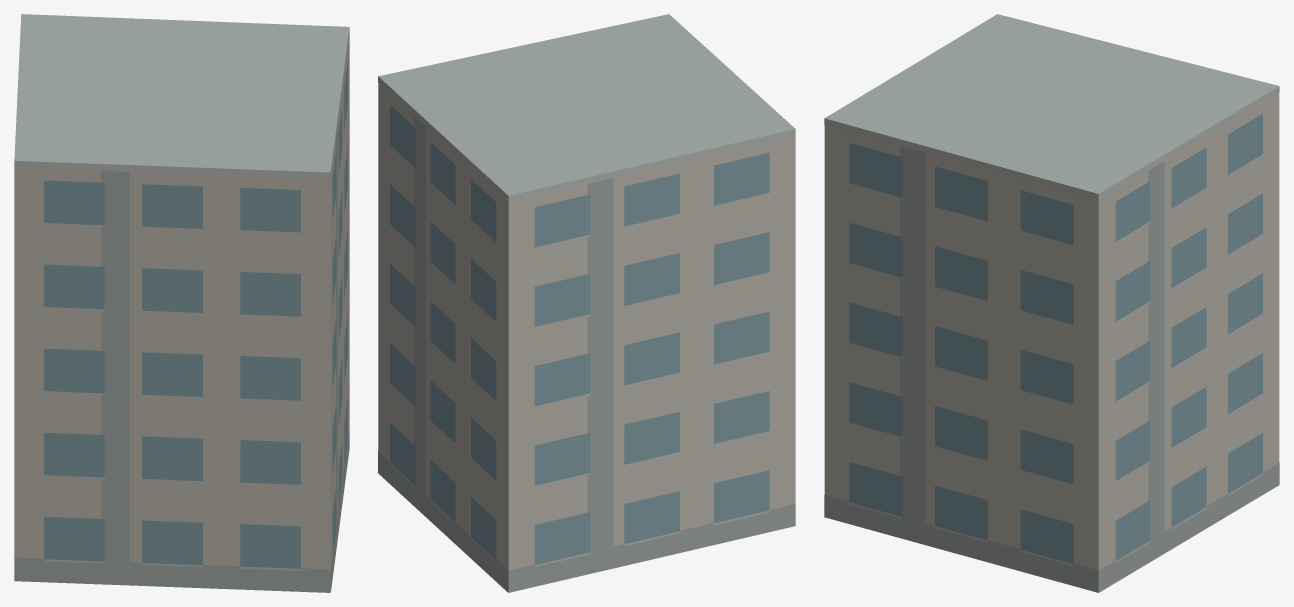
Rendered from survey-upis-32513641.glb.
3 renders of one model, left to right at view 1: azimuth 30°, elevation 25°; view 2: azimuth 150°, elevation 25°; view 3: azimuth 270°, elevation 25°, orthographic. The views are drawn at different scales.
Parts seen in each view (by area): view 1: survey-upis-32513641.tmp; view 2: survey-upis-32513641.tmp; view 3: survey-upis-32513641.tmp.
Part boxes in pixels (x1,y1,x2,y2): survey-upis-32513641.tmp: [14, 14, 349, 592]; survey-upis-32513641.tmp: [378, 14, 795, 592]; survey-upis-32513641.tmp: [824, 14, 1279, 592].
Size of the model in its own units: 14.42 by 14.9 by 15.41.
